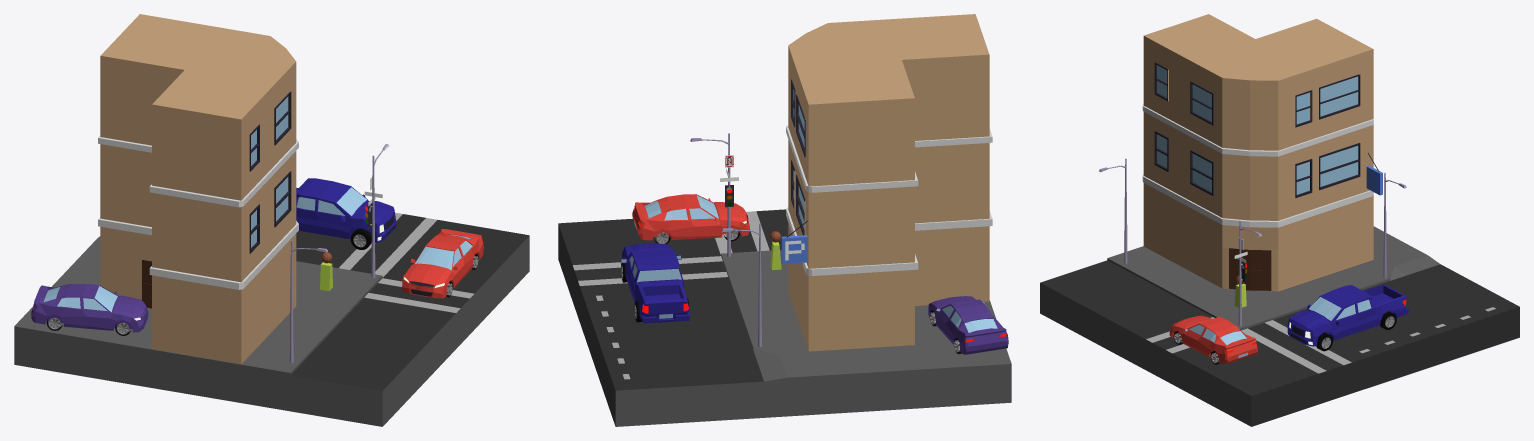
File: TodayUSA2.glb
3 renders of one model, left to right at view 1: azimuth 30°, elevation 25°; view 2: azimuth 150°, elevation 25°; view 3: azimuth 270°, elevation 25°, orthographic. The views are drawn at different scales.
Parts seen in each view (by area): view 1: Building, Base, FordF150, Camry.001, Camry, Red Light, Streetlamp1; view 2: Building, Base, FordF150, Camry, Camry.001, Parking Sign, Red Light, Streetlamp2; view 3: Building, Base, FordF150, Camry, Red Light.
Boxes of the visible parts, box(x1,y1,x2,y2) form: Building: box(98, 14, 298, 364); Base: box(14, 212, 529, 426); FordF150: box(296, 178, 396, 249); Camry.001: box(31, 284, 148, 335); Camry: box(402, 229, 483, 298); Red Light: box(364, 144, 389, 277); Streetlamp1: box(289, 240, 327, 362); Building: box(786, 14, 992, 351); Base: box(558, 209, 1011, 426); FordF150: box(620, 243, 689, 323); Camry: box(632, 194, 749, 243); Camry.001: box(928, 296, 1008, 354); Parking Sign: box(781, 220, 807, 263); Red Light: box(690, 133, 738, 256); Streetlamp2: box(721, 223, 761, 347); Building: box(1142, 14, 1373, 291); Base: box(1040, 226, 1519, 426); FordF150: box(1287, 284, 1408, 351); Camry: box(1169, 315, 1257, 364); Red Light: box(1234, 220, 1261, 326).
Bounding box in the file's own units: 8.42 × 4.72 × 8.42.
